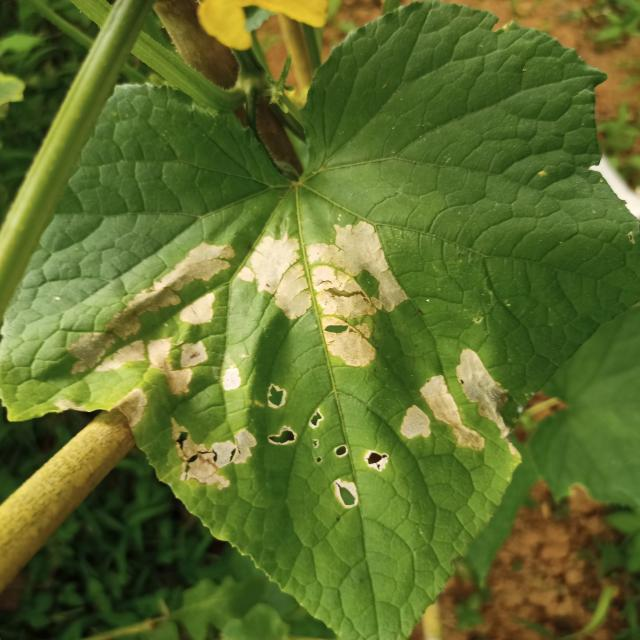disease_cucumber: (67, 220, 521, 508)
